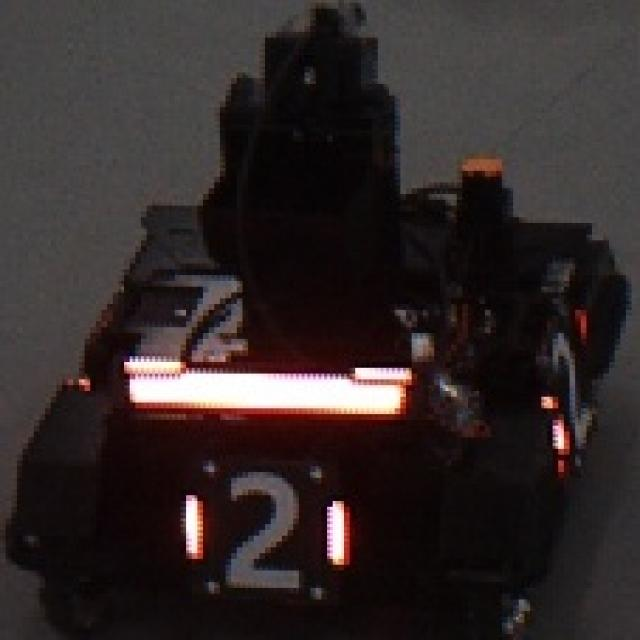R2: (181, 469, 341, 588), (542, 313, 600, 475)
